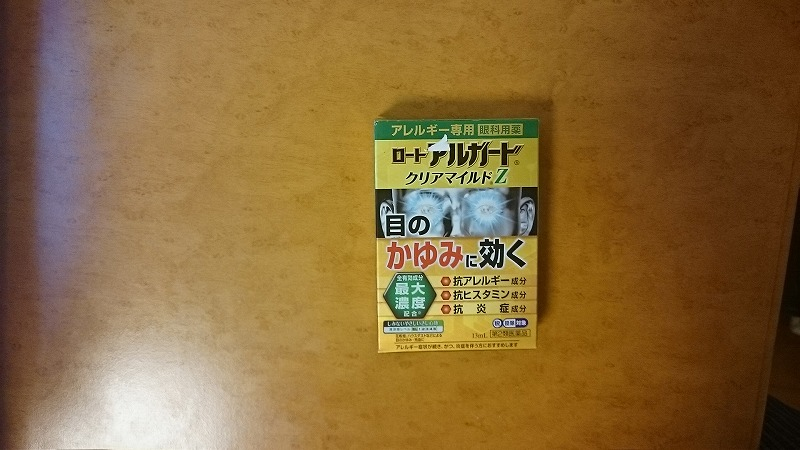C: (366, 114, 548, 359)
